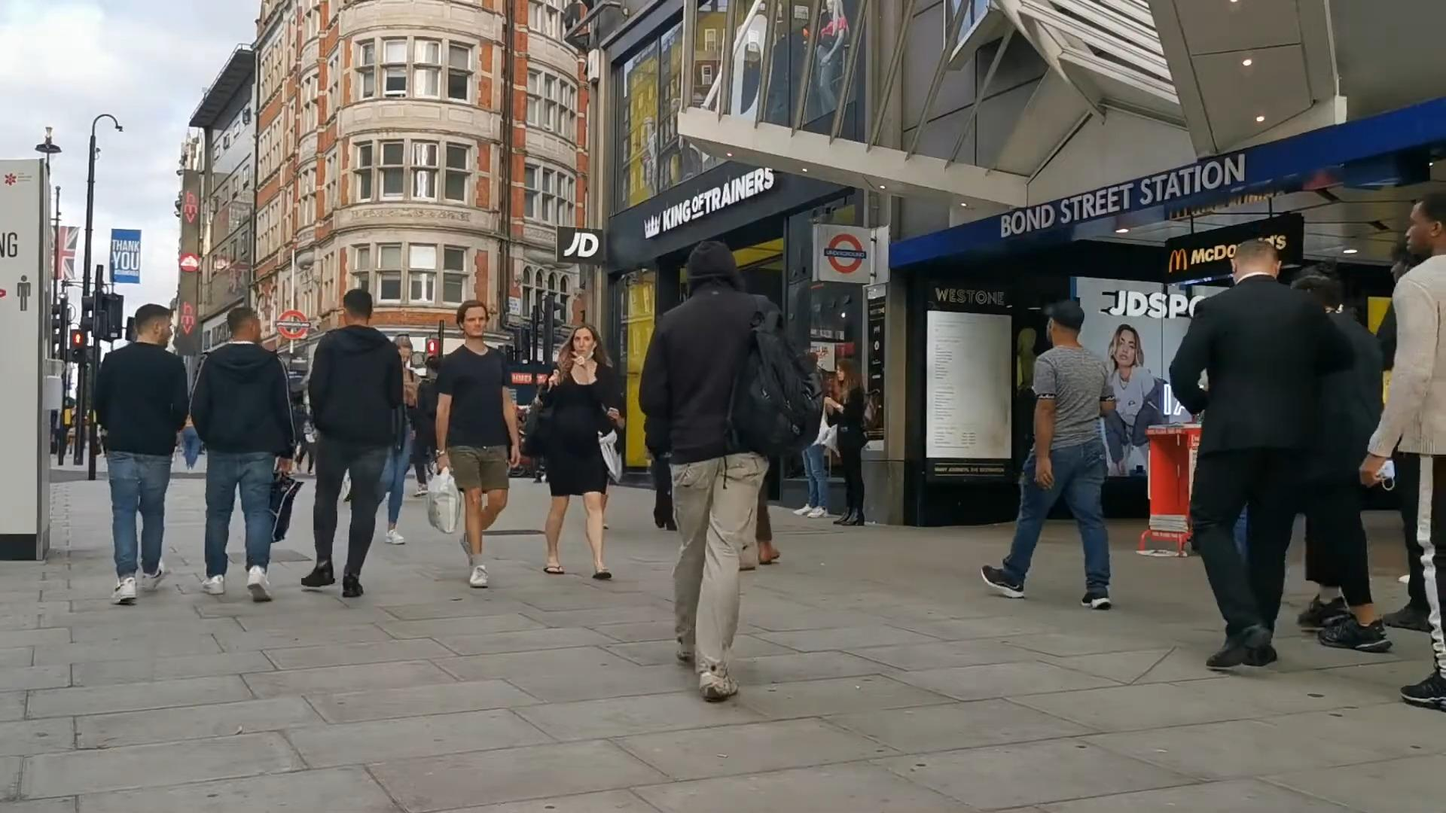no-helmet: (1289, 256, 1345, 312), (687, 241, 741, 298), (1406, 191, 1446, 257), (1230, 239, 1282, 283), (1043, 301, 1085, 343), (135, 303, 173, 348), (227, 307, 262, 344), (566, 324, 600, 361), (457, 299, 489, 338), (343, 289, 372, 326), (836, 358, 860, 381)
